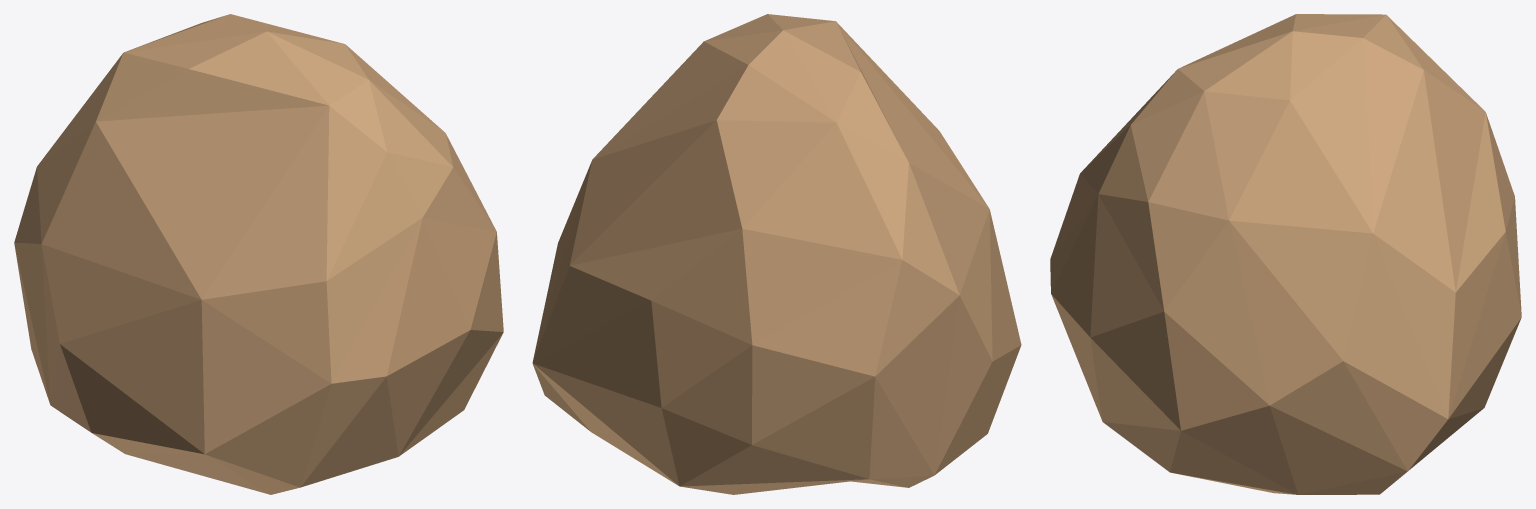
Rendered from cloud01.obj.
The picture shows the model from 3 angles, left to right: view 1: azimuth 30°, elevation 25°; view 2: azimuth 150°, elevation 25°; view 3: azimuth 270°, elevation 25°; orthographic projection. The views are drawn at different scales.
Visible parts, largest first — view 1: cloud01.obj; view 2: cloud01.obj; view 3: cloud01.obj.
Boxes of the visible parts, left/top/right/bottom form: cloud01.obj: left=14, top=14, right=503, bottom=494; cloud01.obj: left=532, top=14, right=1021, bottom=494; cloud01.obj: left=1050, top=14, right=1521, bottom=494.
Size of the model in its own units: 2.5 by 2.5 by 2.5.
